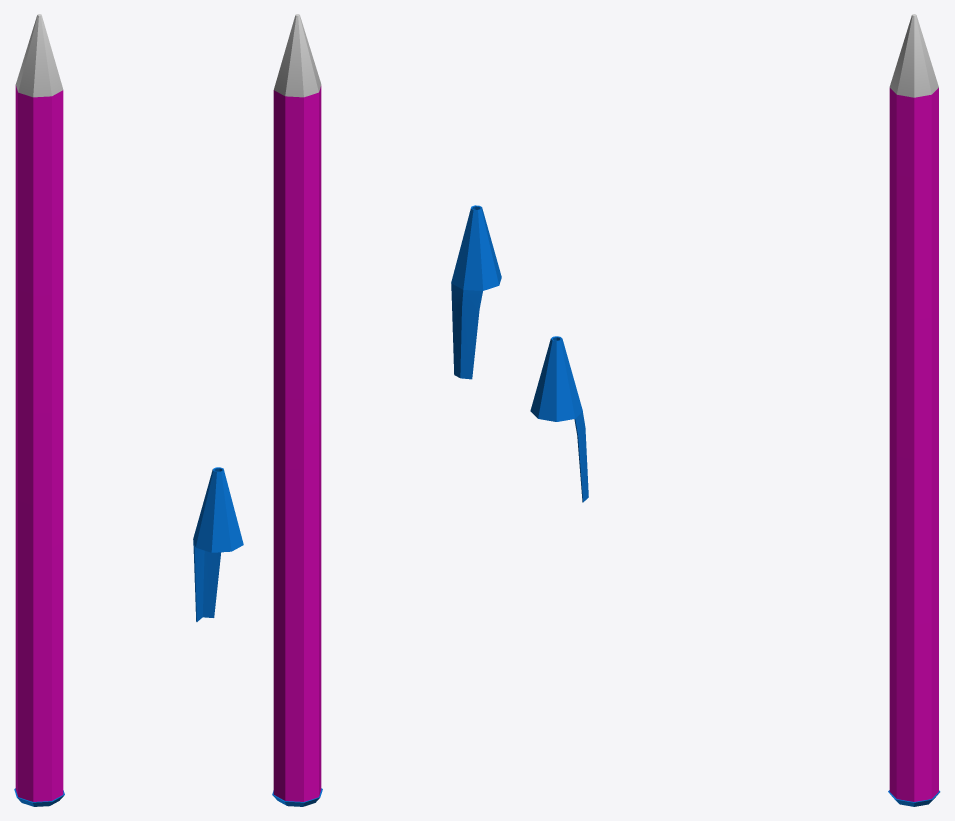
File: Stylo_v1.0.fbx
The picture shows the model from 3 angles, left to right: view 1: azimuth 30°, elevation 25°; view 2: azimuth 150°, elevation 25°; view 3: azimuth 270°, elevation 25°; orthographic projection.
Parts seen in each view (by area): view 1: pCylinder10, pCylinder16; view 2: pCylinder10, pCylinder16; view 3: pCylinder10, pCylinder16.
Boxes of the visible parts, bbox=[...] form: pCylinder10: bbox=[14, 14, 64, 806]; pCylinder16: bbox=[193, 467, 243, 621]; pCylinder10: bbox=[272, 14, 322, 806]; pCylinder16: bbox=[451, 205, 501, 379]; pCylinder10: bbox=[888, 14, 940, 806]; pCylinder16: bbox=[530, 336, 588, 502].
Size of the model in its own units: 1.77 by 29.01 by 13.77.
